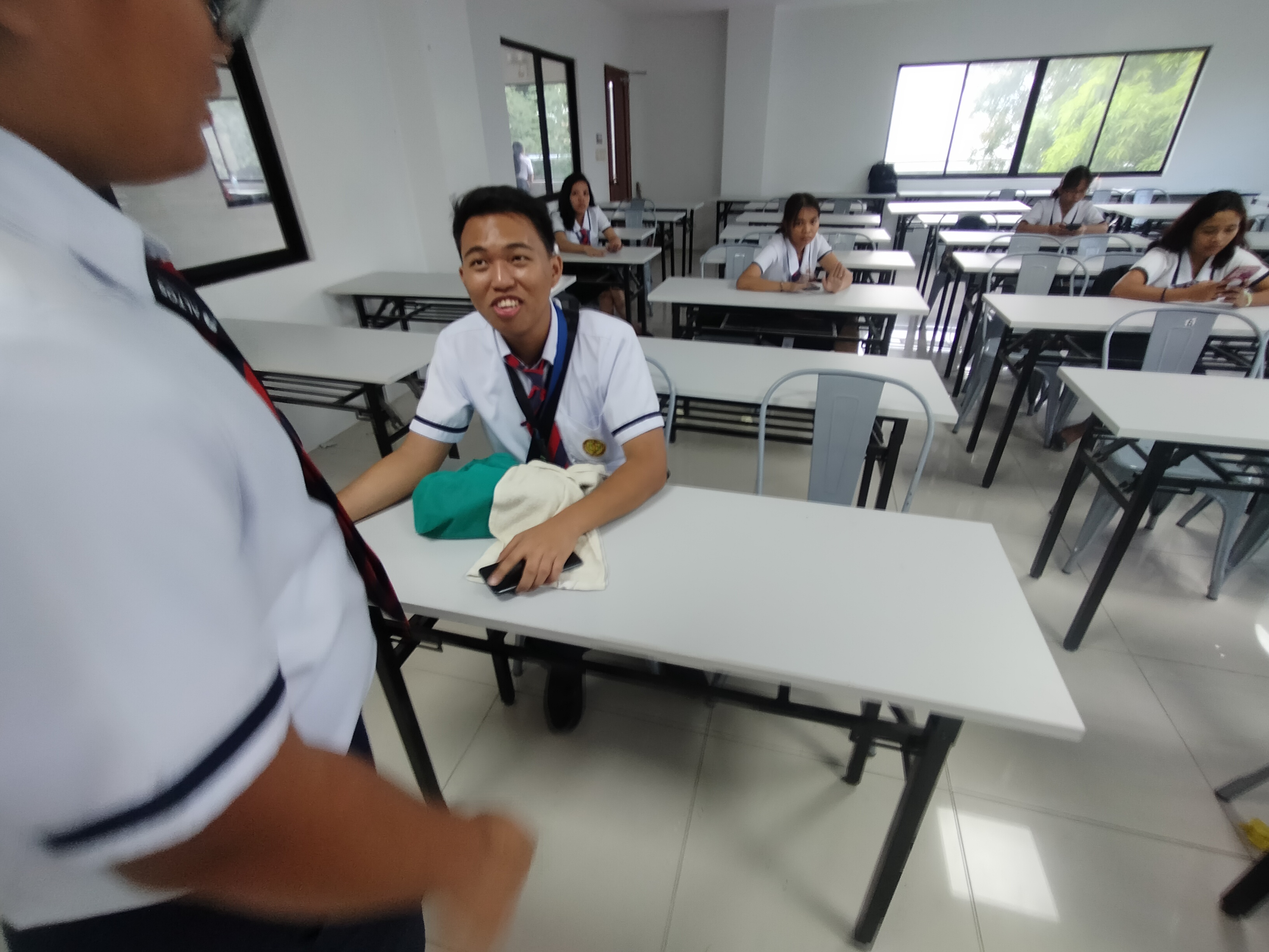with-student: (323, 185, 1079, 799), (976, 189, 1269, 366), (648, 185, 927, 335), (937, 166, 1168, 256), (494, 172, 660, 281)
